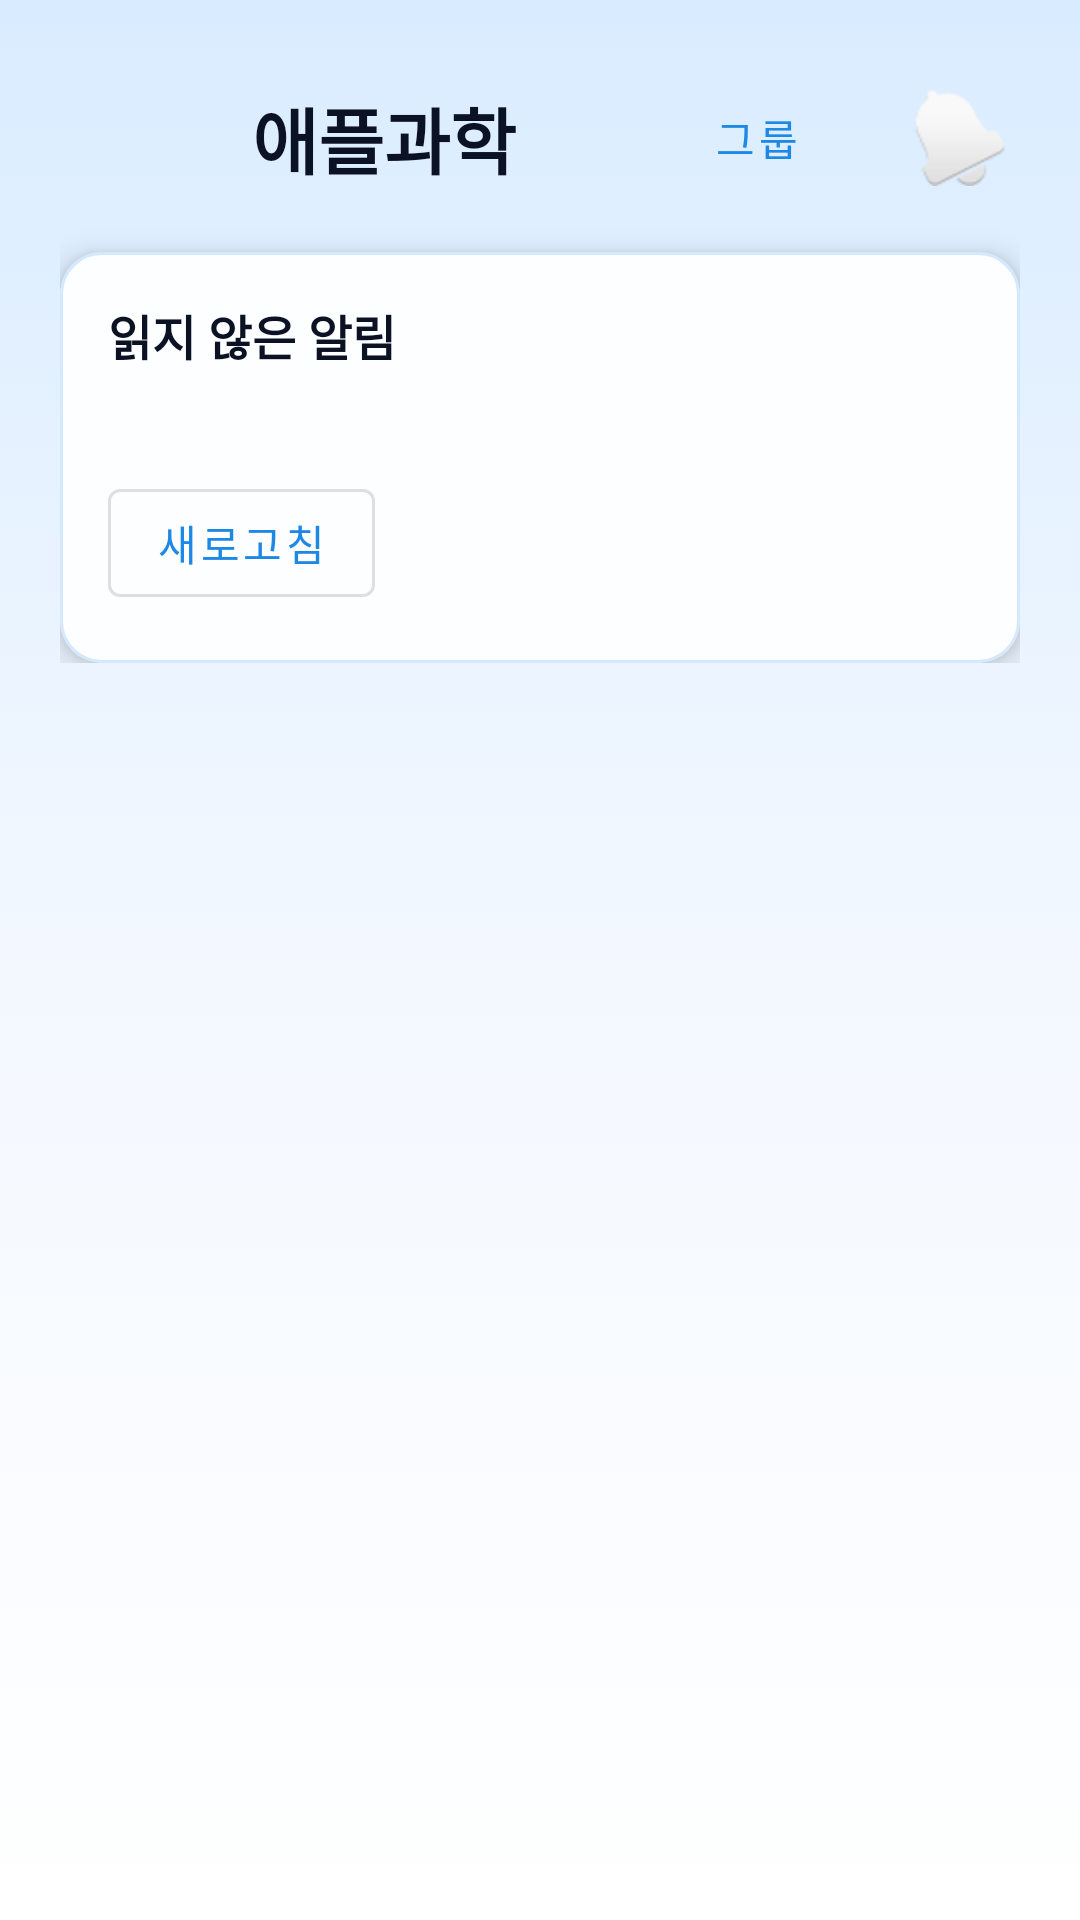

Where icons sit on this 1080 × 1920 app screen, as {"x1": x1, "y1": y1, "x2": x2, "y2": y2}:
알림: {"x1": 917, "y1": 92, "x2": 1004, "y2": 186}
